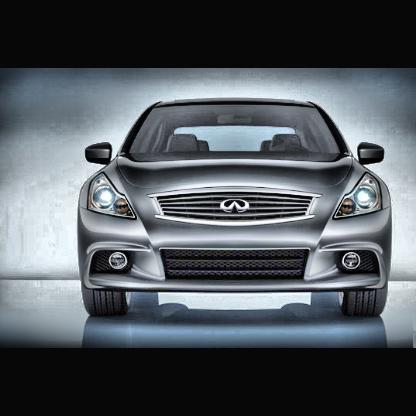Infiniti G Coupe IPL 2012: (77, 97, 395, 323)
